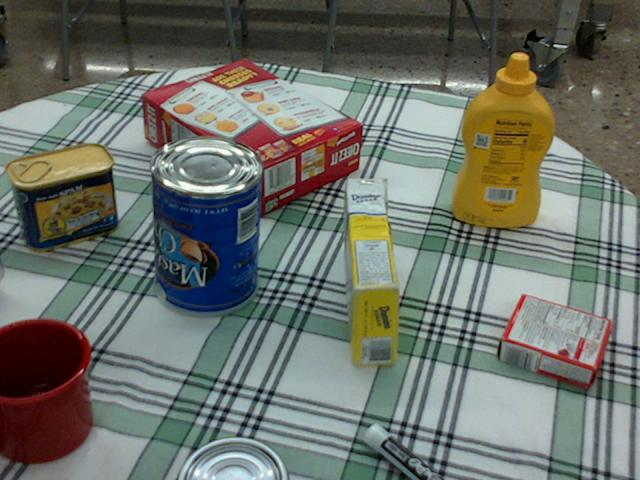cracker_box: (140, 60, 361, 211)
gelatin_box: (497, 294, 609, 389)
large_marker: (363, 424, 443, 479)
master_chef_can: (146, 135, 260, 316)
mug: (0, 315, 89, 460)
mustard_bottle: (450, 53, 553, 226)
potted_meat_can: (6, 142, 117, 251)
sugar_box: (344, 179, 398, 364)
tomato_soup_can: (0, 262, 1, 278)
tuna_fish_can: (174, 438, 285, 479)
